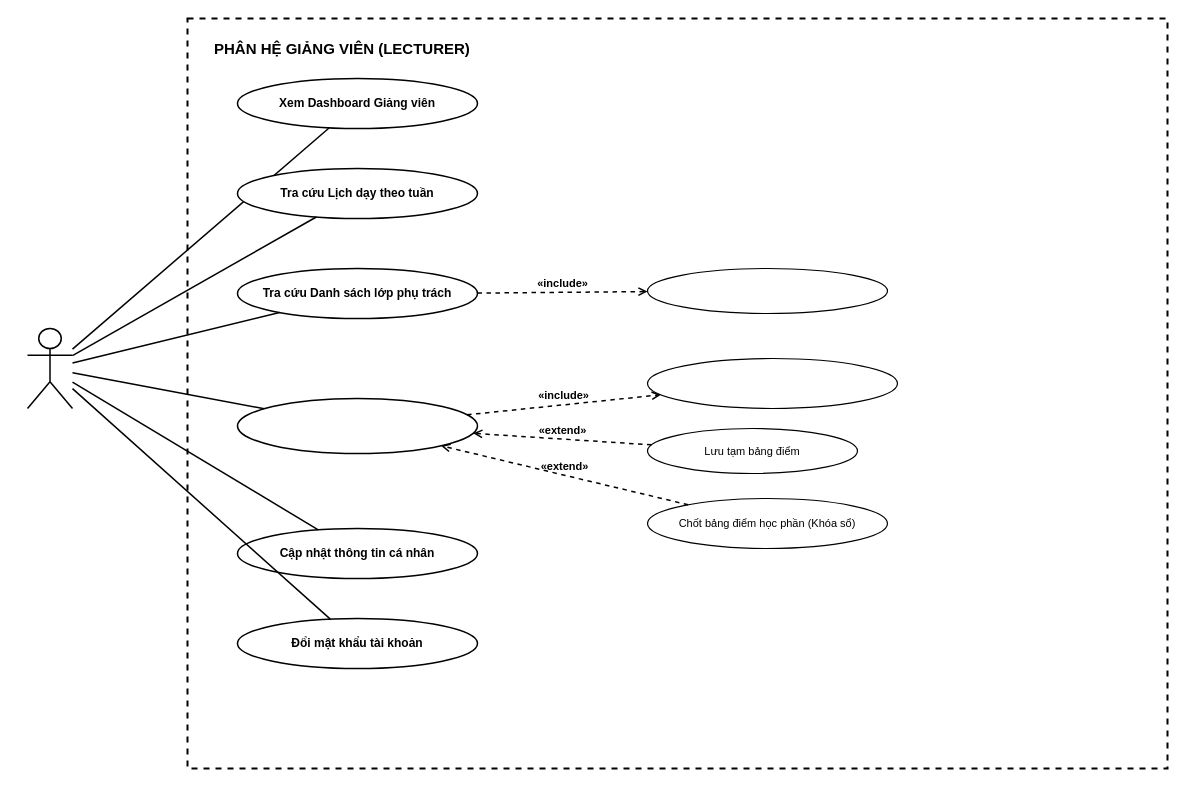
The diagram is 1186 pixels wide and 786 high, and some of its shapes have lost their labels. The shapes that lost their labels are listed below. From the top down, each one's centre as x and y in pixels, then its label:
point (767, 290): Xem Danh sách sinh viên theo lớp
point (49, 368): Giảng viên (Lecturer)
point (772, 383): Tính Điểm tổng kết & Quy đổi thang điểm
point (357, 425): Nhập điểm thành phần (CC, GK, CK)
